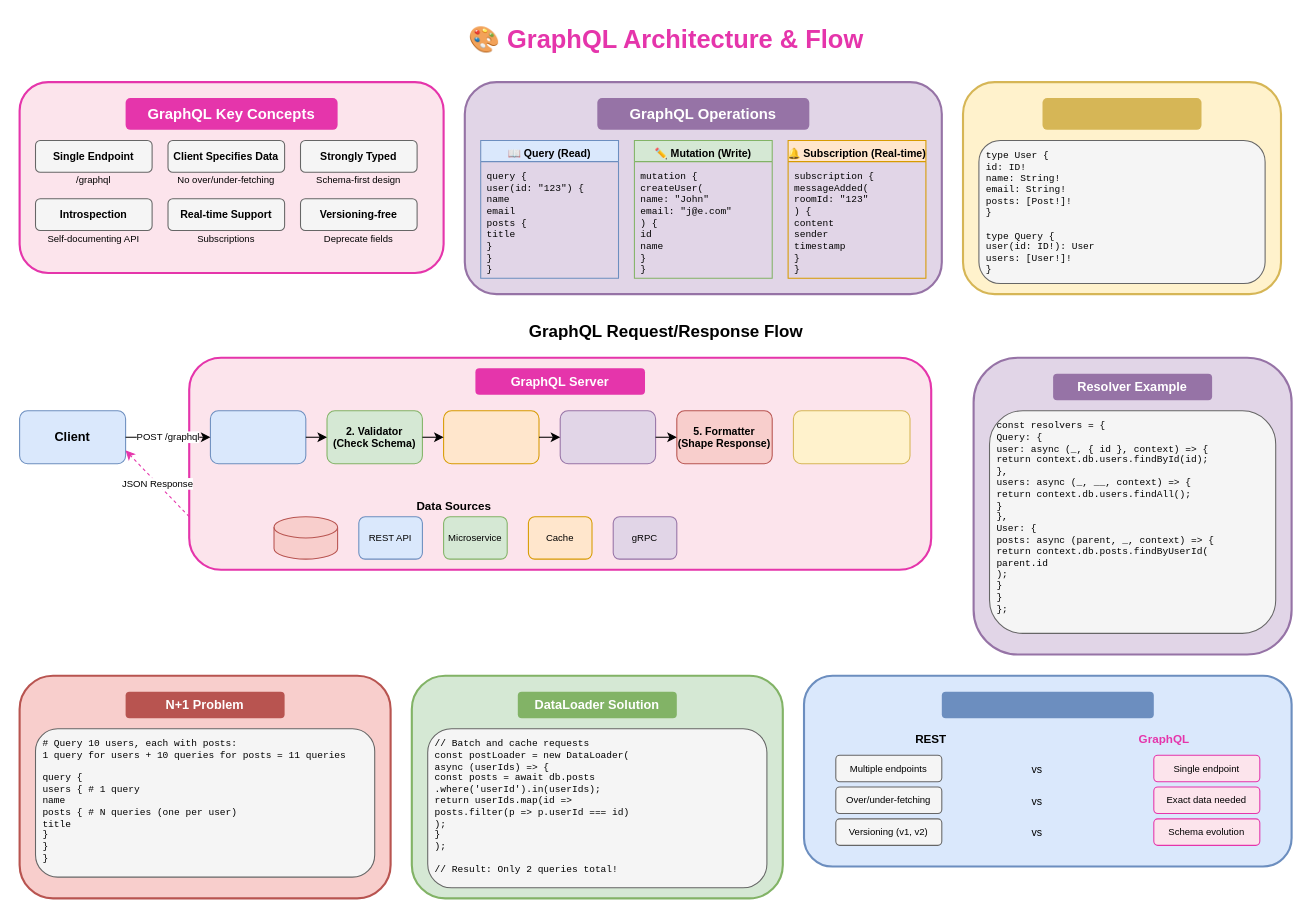
The diagram is 1310 pixels wide and 917 high, and some of its shapes have lost their labels. Here are the shapes that lost their labels. From the top down, the centre of each, then its label:
At (x=1121, y=113): "GraphQL Schema (SDL)".
At (x=257, y=437): "1. Parser (Parse Query)".
At (x=491, y=437): "3. Executor (Run Resolvers)".
At (x=607, y=437): "4. Resolvers (Fetch Data)".
At (x=851, y=437): "Schema".
At (x=305, y=537): "Database".
At (x=1047, y=704): "GraphQL vs REST".
